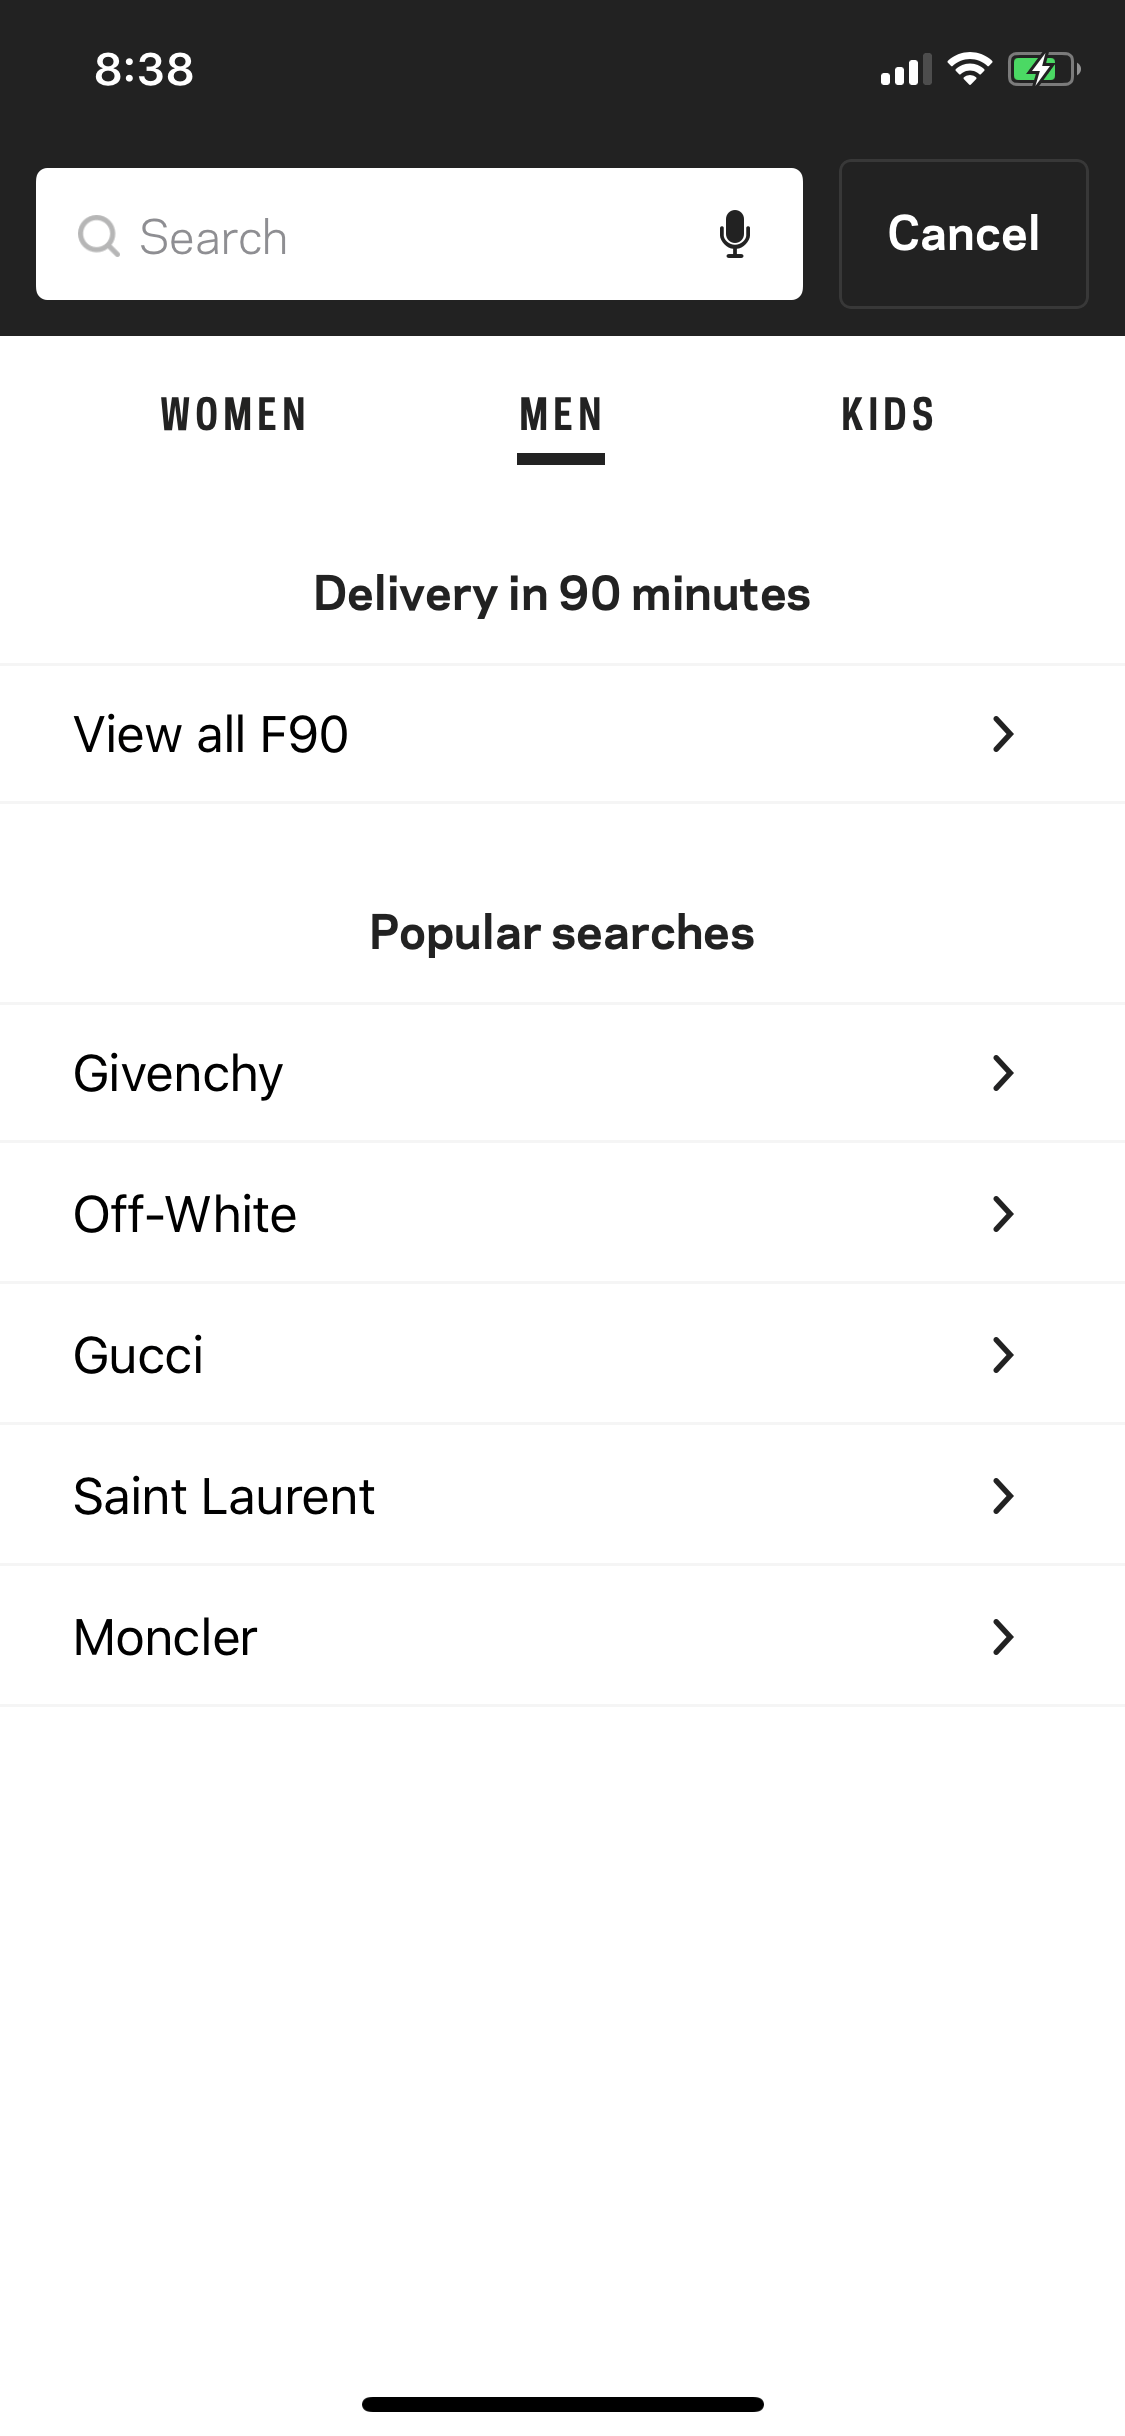Buttons: (830, 144, 1099, 322)
